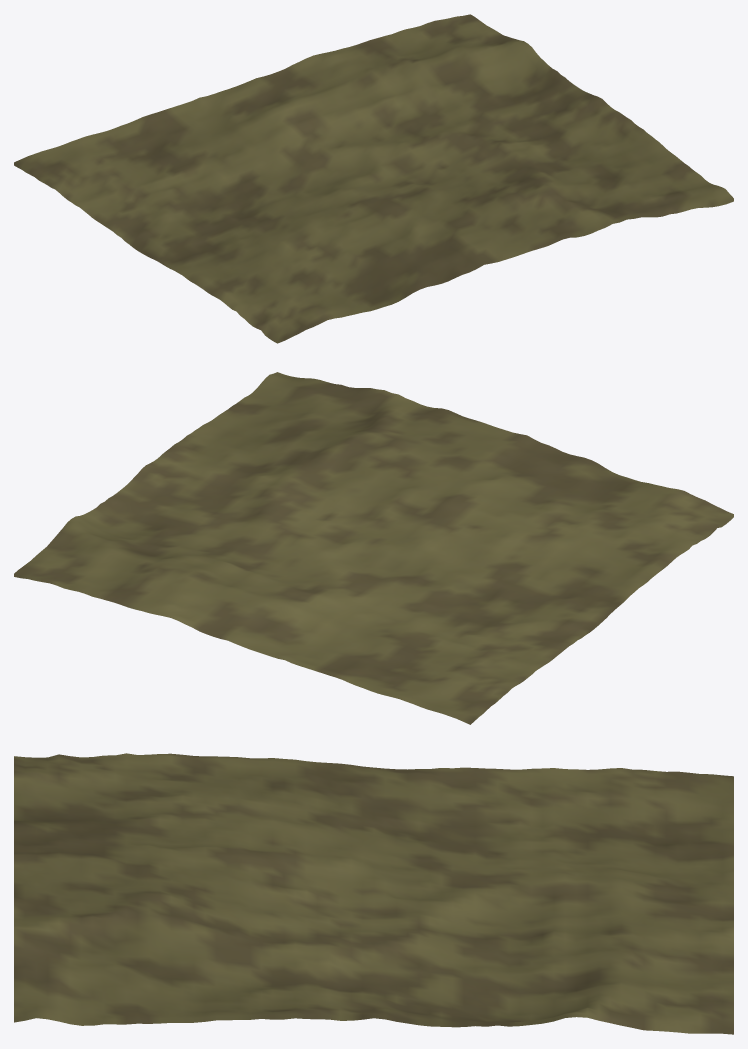
File: land_f_07_06.glb
The picture shows the model from 3 angles, top to bottom: view 1: azimuth 30°, elevation 25°; view 2: azimuth 150°, elevation 25°; view 3: azimuth 270°, elevation 25°; orthographic projection. The views are drawn at different scales.
Visible parts, largest first — view 1: land_f_07_06; view 2: land_f_07_06; view 3: land_f_07_06.
Part boxes in pixels (bbox=[...]): land_f_07_06: bbox=[14, 14, 733, 343]; land_f_07_06: bbox=[14, 372, 733, 724]; land_f_07_06: bbox=[14, 753, 733, 1034].
Bounding box in the file's own units: 3840 × 465 × 3840.
